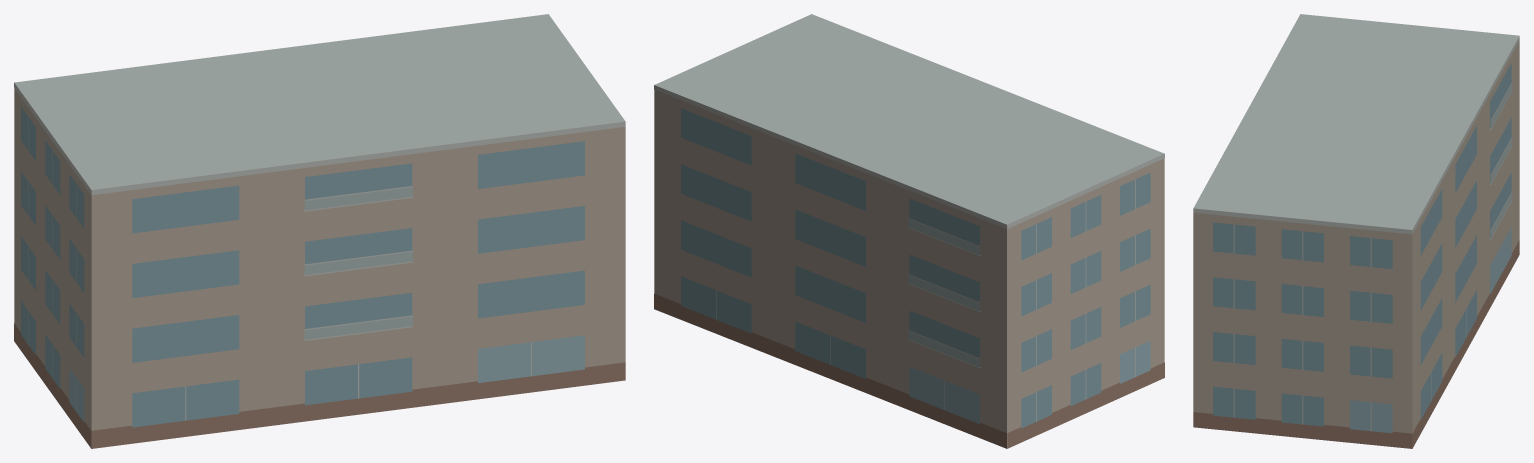
Rendered from residential-85772685-fc4d-454b-9d63-01a095afccf1.glb.
3 renders of one model, left to right at view 1: azimuth 30°, elevation 25°; view 2: azimuth 150°, elevation 25°; view 3: azimuth 270°, elevation 25°, orthographic. The views are drawn at different scales.
Parts seen in each view (by area): view 1: residential-85772685-fc4d-454b-9d63-01a095afccf1.tmp; view 2: residential-85772685-fc4d-454b-9d63-01a095afccf1.tmp; view 3: residential-85772685-fc4d-454b-9d63-01a095afccf1.tmp.
Part boxes in pixels (x1,y1,x2,y2): residential-85772685-fc4d-454b-9d63-01a095afccf1.tmp: (14,14,625,448); residential-85772685-fc4d-454b-9d63-01a095afccf1.tmp: (654,14,1164,448); residential-85772685-fc4d-454b-9d63-01a095afccf1.tmp: (1193,14,1519,448).
Size of the model in its own units: 25.83 by 12.2 by 16.5.
